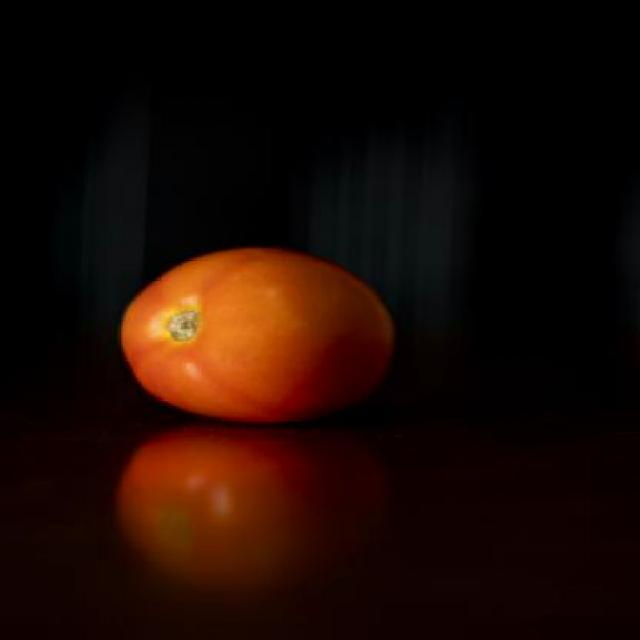Jeruk Sudah Matang: (127, 247, 395, 421)
